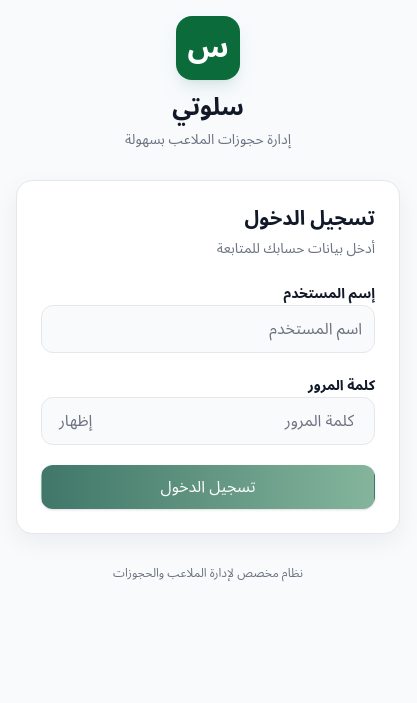
LoginPage › shows backend login message and field errors when available
Step 1. Type "wrong-user" into the field labelled "إسم المستخدم" → (208, 329), box x1=41 y1=305 x2=375 y2=353
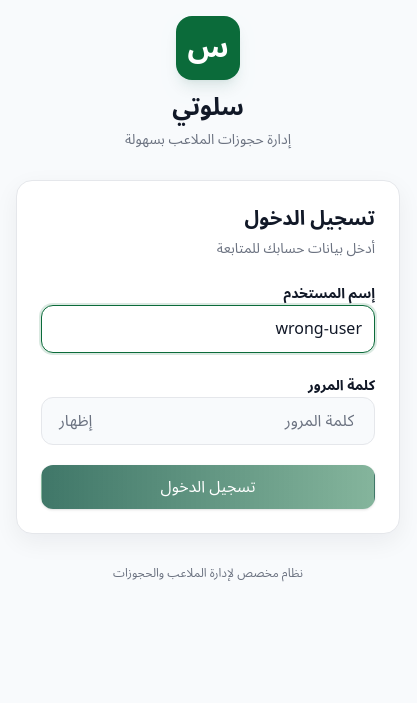
Step 2. Type "bad-pass" into the password field labelled "كلمة المرور" → (208, 421), box x1=41 y1=397 x2=375 y2=445
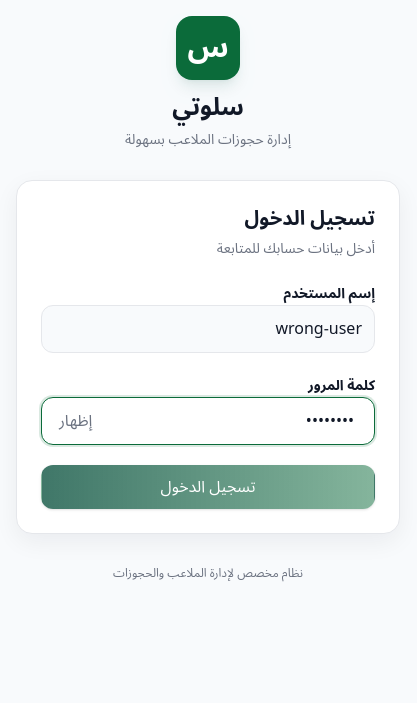
Step 3. Click the button "تسجيل الدخول" → (208, 487), box x1=41 y1=465 x2=375 y2=509
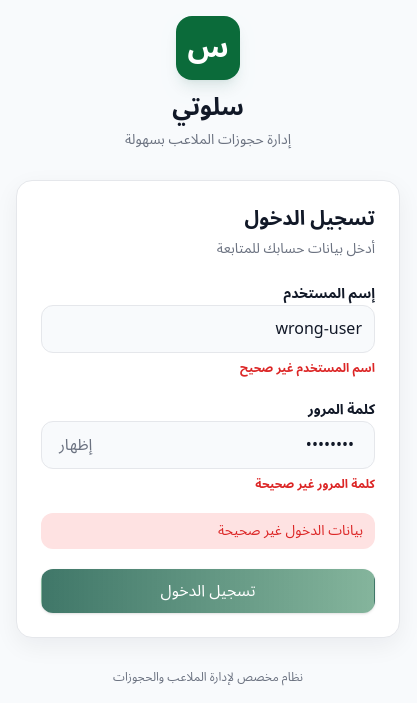
Expected: the text "بيانات الدخول غير صحيحة" is shown, x1=41 y1=513 x2=375 y2=549
Expected: the text "اسم المستخدم غير صحيح" is shown, x1=240 y1=356 x2=375 y2=381
Expected: the text "كلمة المرور غير صحيحة" is shown, x1=255 y1=472 x2=375 y2=497
